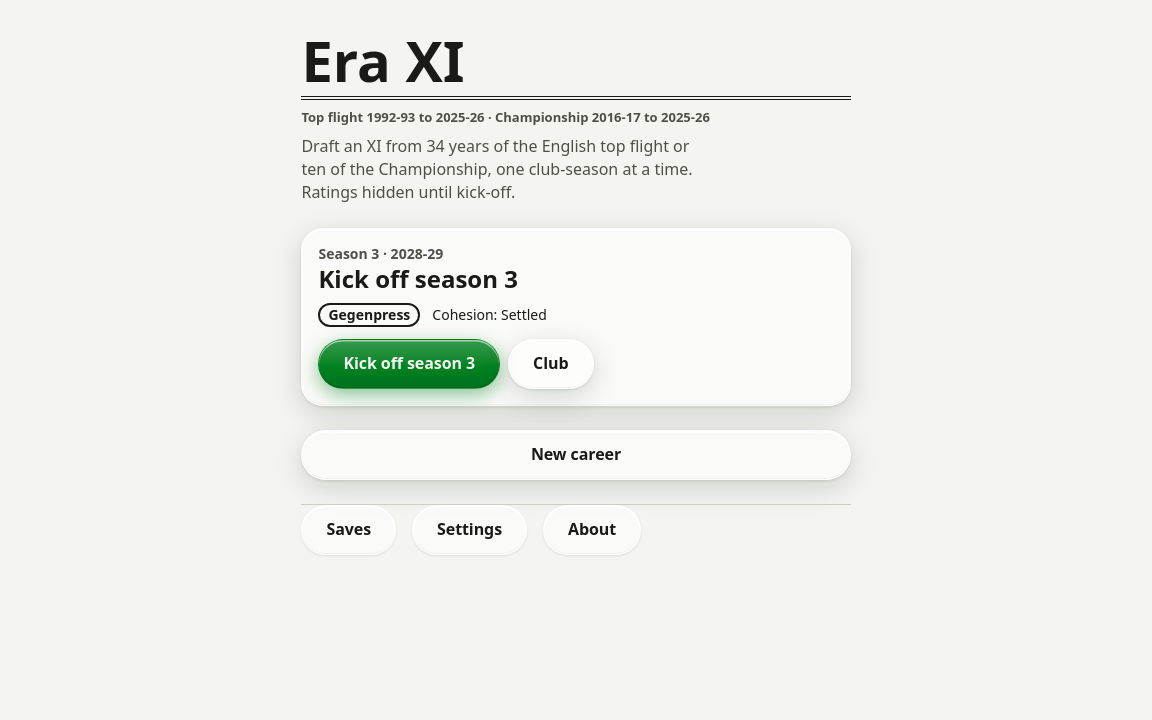
Test: shortcuts › 1–4 switch tabs and K runs the primary action in Club mode
The width and height of the screenshot is (1152, 720).
Press 2
Expected: the heading "Era XI" is shown, [301, 32, 850, 100]
Click the button "Kick off season 3". click: (409, 364)
box: [318, 339, 500, 389]
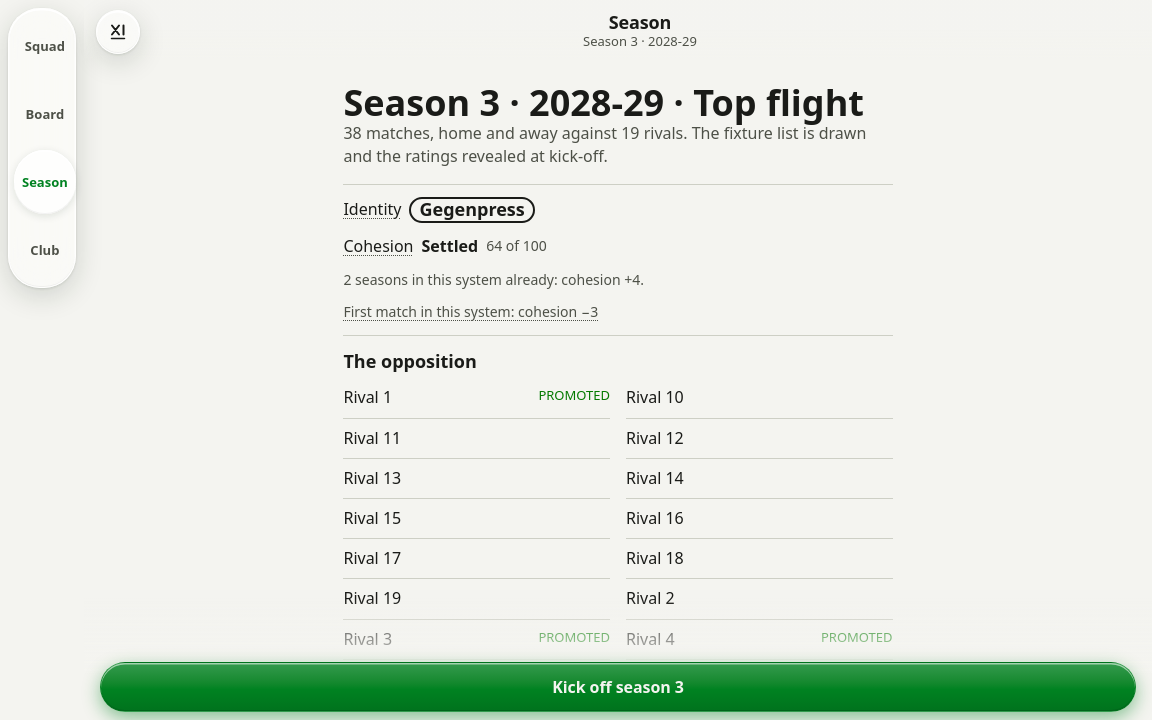
Press 2
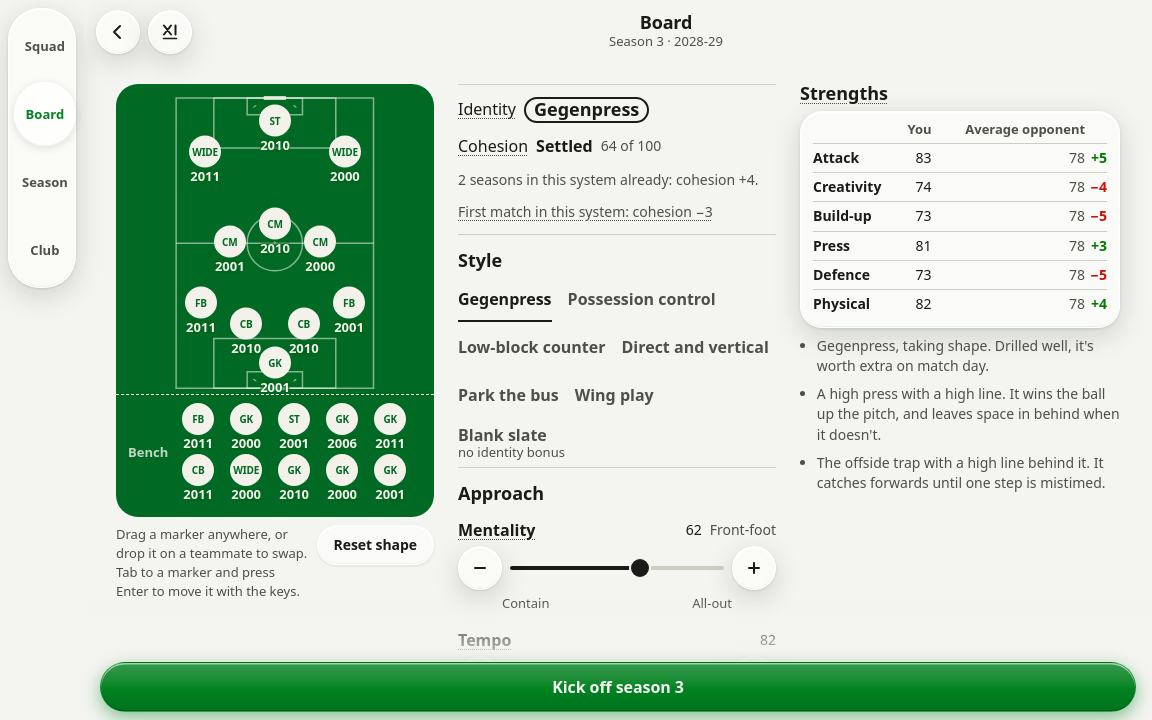
Now the tab "Board" is shown, box [14, 82, 76, 146]
Press 4
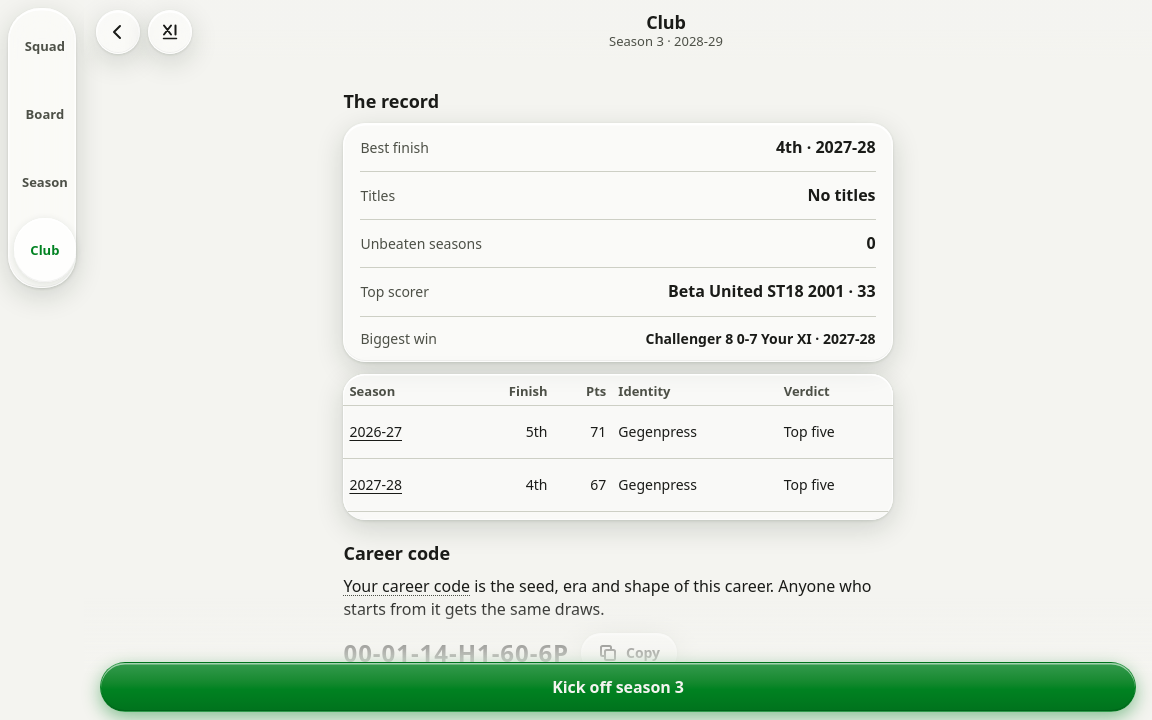
Expected: the tab "Club" is shown, [14, 218, 76, 282]
Press 3
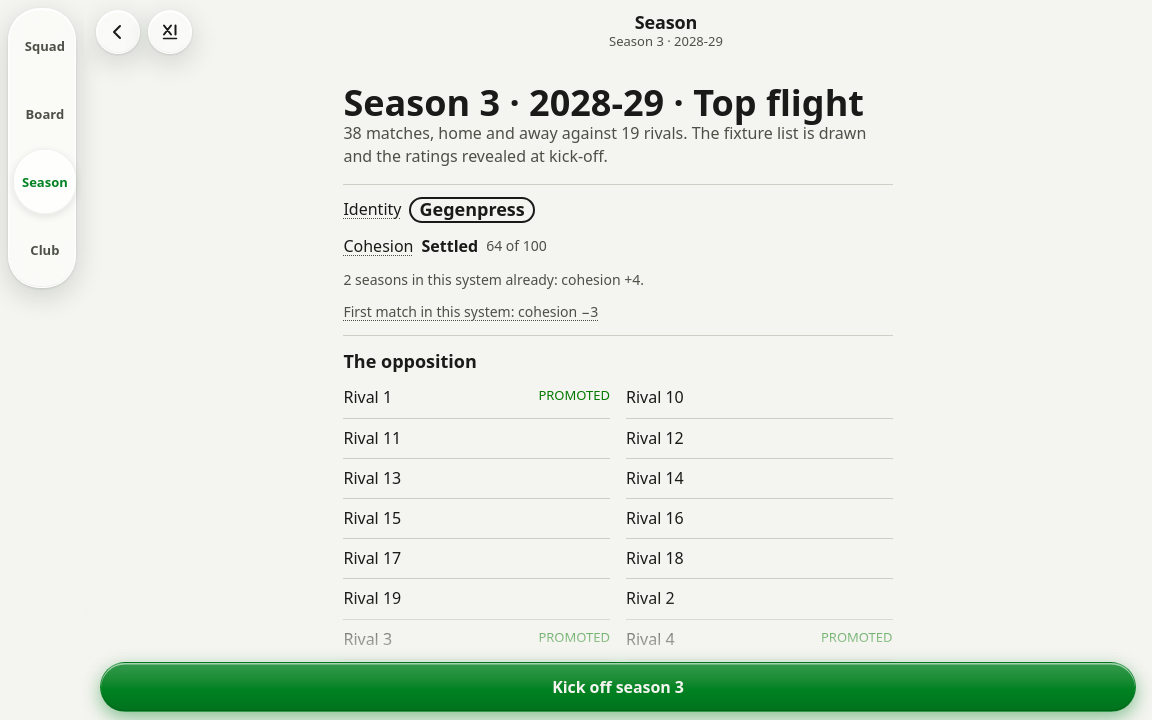
Press k
(page scrolled)
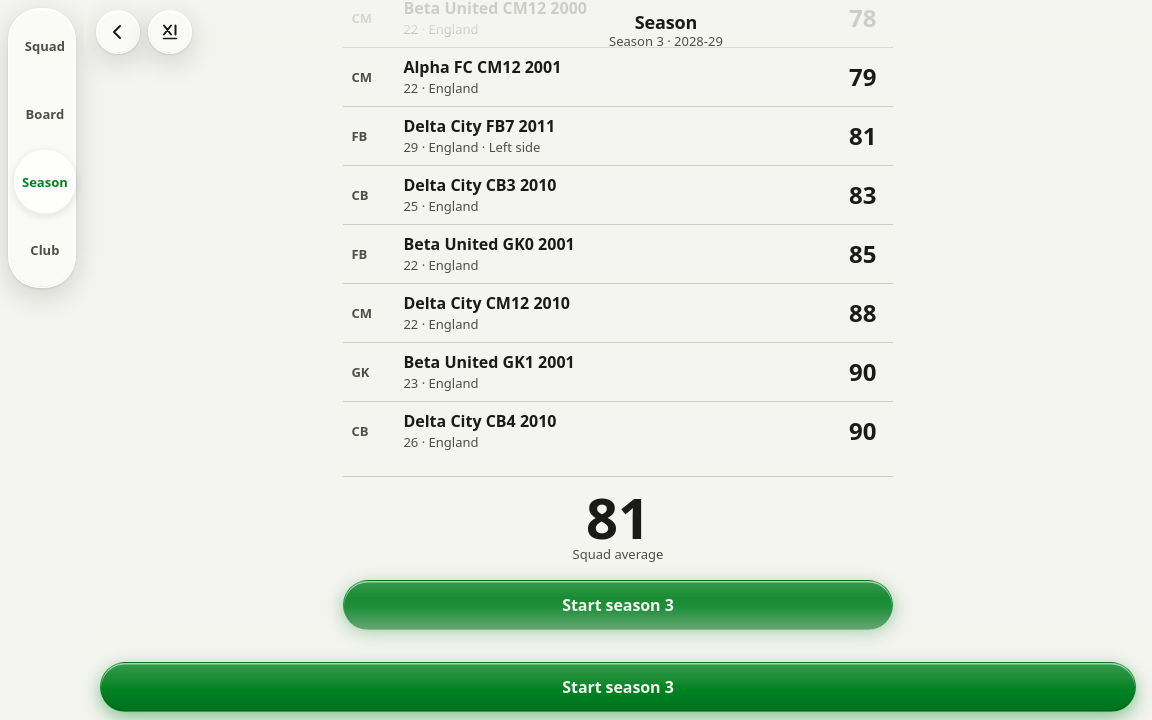
Now the button "Start season 3" below "Squad average" is shown, box [343, 580, 892, 630]
